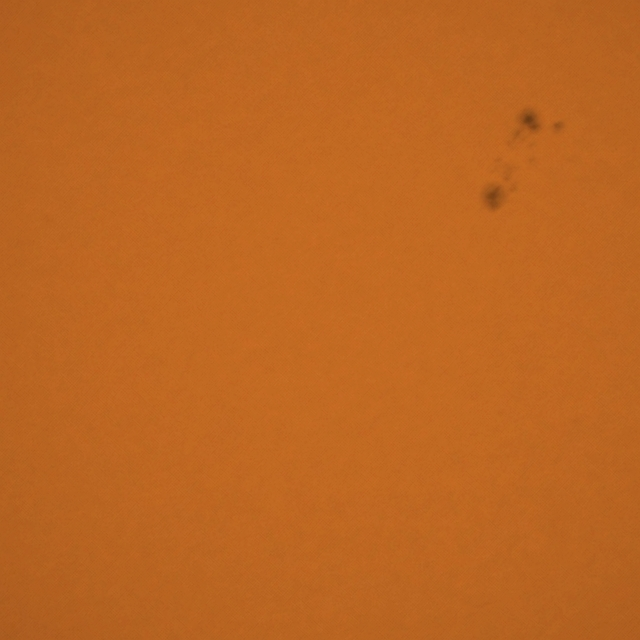sunspot: (517, 107, 564, 142), (485, 178, 517, 212), (551, 119, 566, 135)
